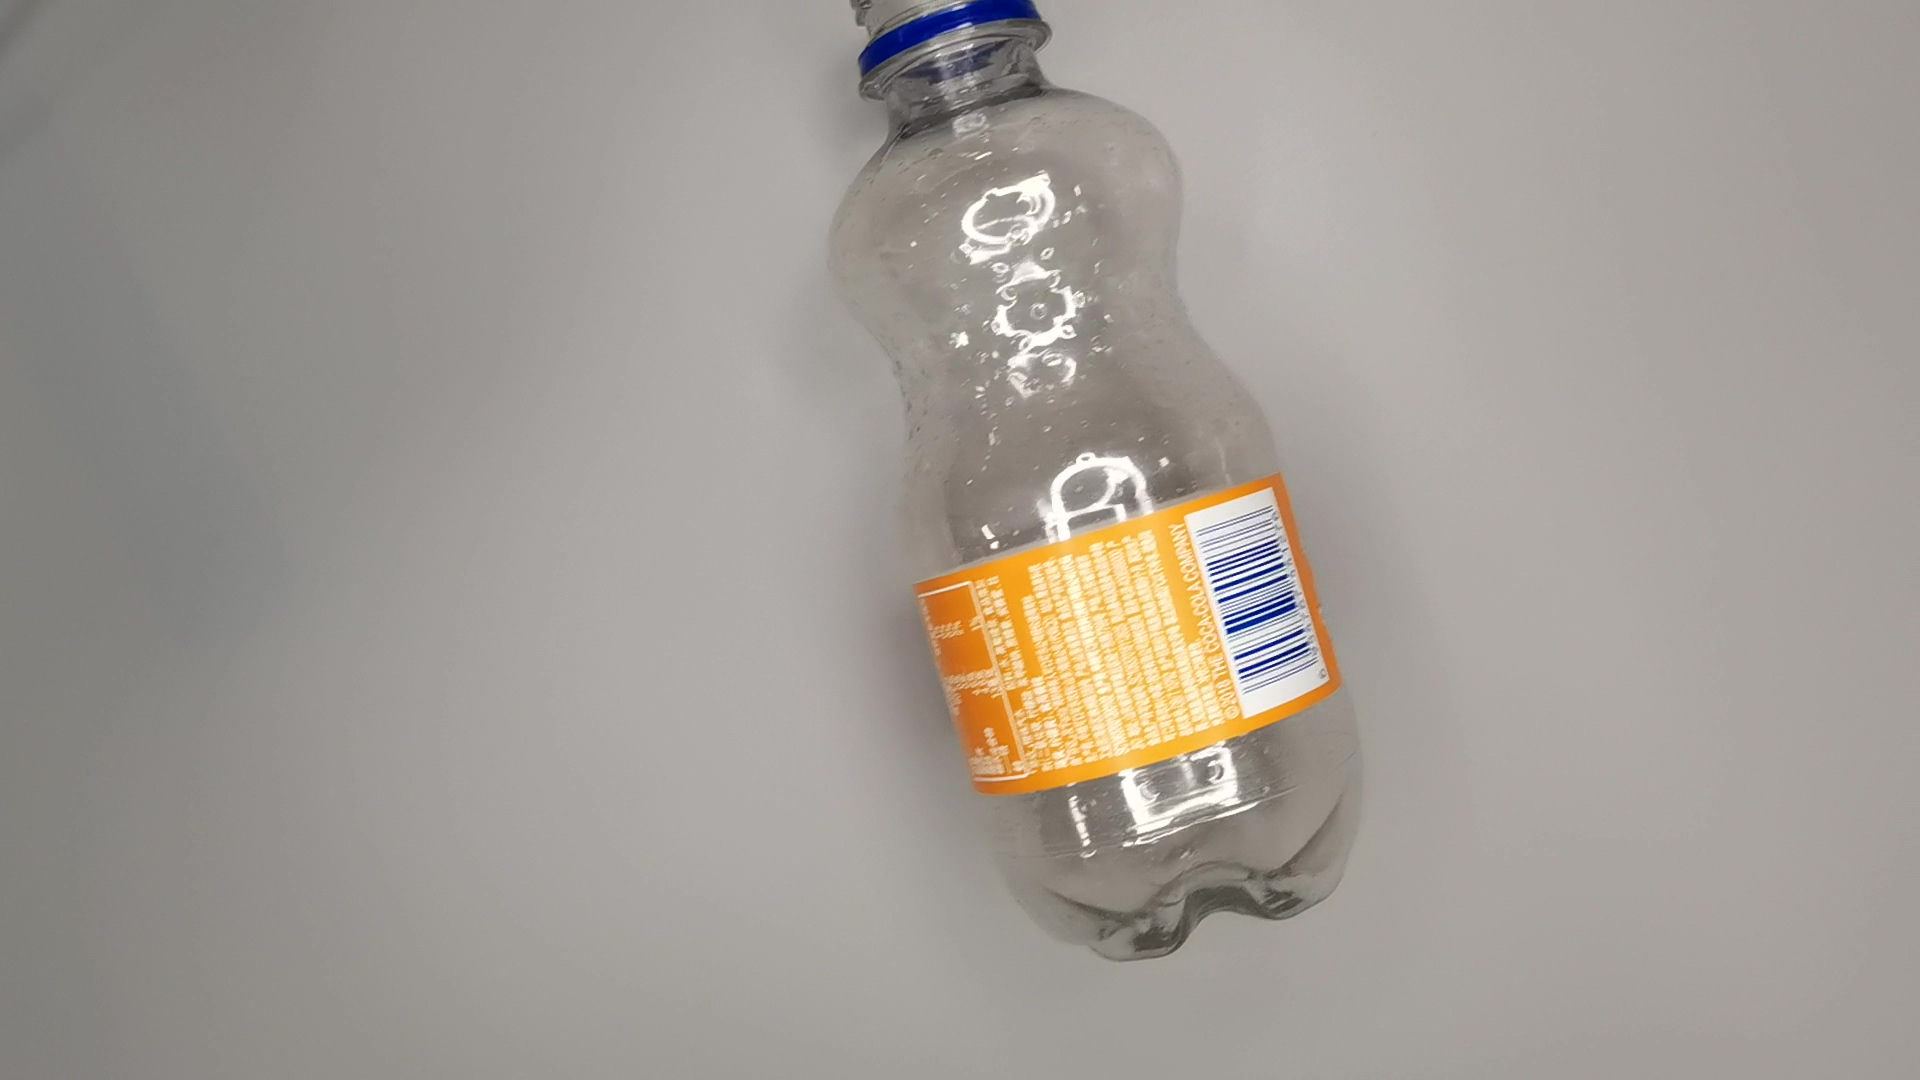bottle: (819, 1, 1367, 963)
